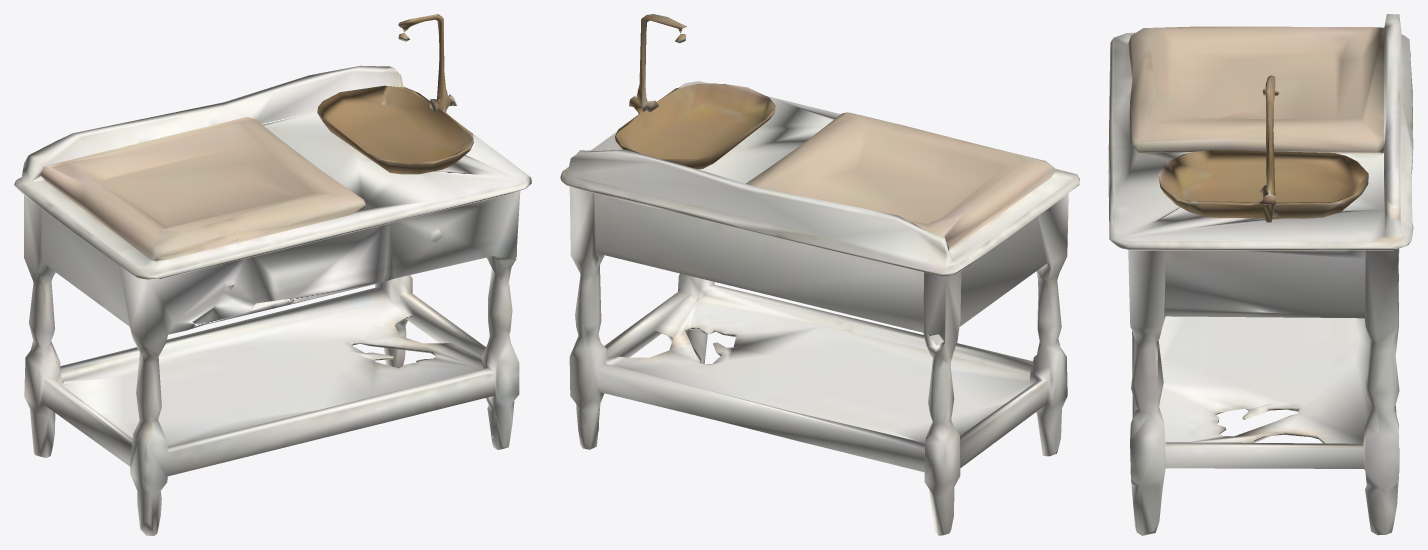
Rendered from mesa_mudar.movil.glb.
3 renders of one model, left to right at view 1: azimuth 30°, elevation 25°; view 2: azimuth 150°, elevation 25°; view 3: azimuth 270°, elevation 25°, orthographic. The views are drawn at different scales.
Parts seen in each view (by area): view 1: geometry_0; view 2: geometry_0; view 3: geometry_0.
Boxes of the visible parts, bbox=[...] form: geometry_0: bbox=[14, 14, 531, 535]; geometry_0: bbox=[560, 14, 1079, 535]; geometry_0: bbox=[1108, 14, 1413, 535].
Bounding box in the file's own units: 0.9997 × 0.9481 × 0.5997.
1 material, 1 textured.
